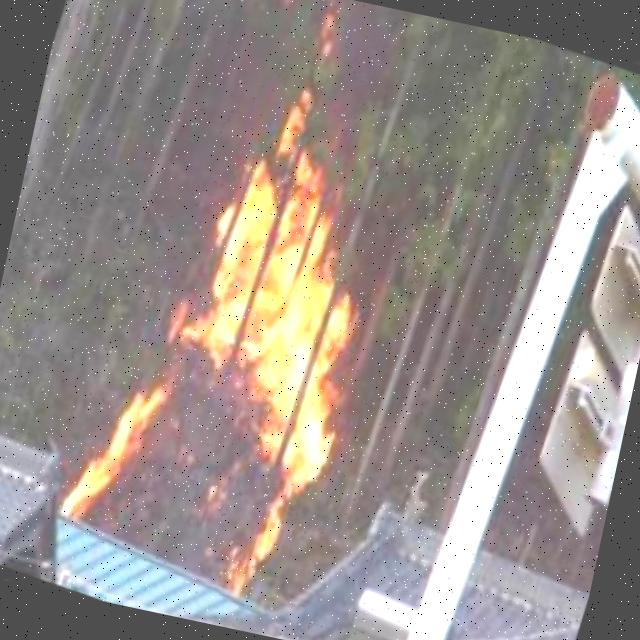fire: (37, 59, 451, 625)
